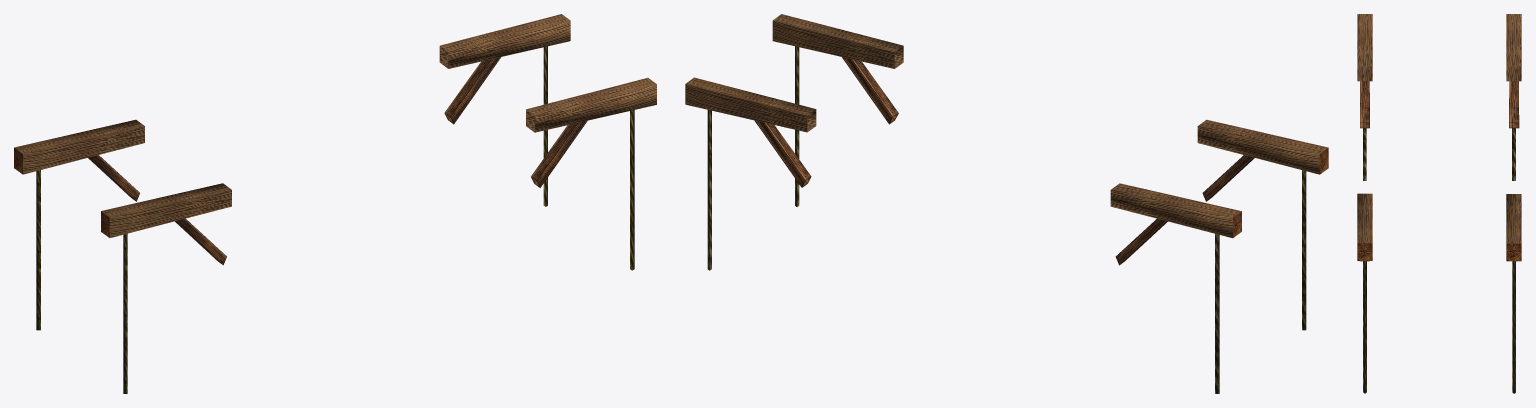
File: LAKETOWN_EXTERIOR_PS_LT_ROPESUP74646__GX.fbx
The picture shows the model from 3 angles, left to right: view 1: azimuth 30°, elevation 25°; view 2: azimuth 150°, elevation 25°; view 3: azimuth 270°, elevation 25°; orthographic projection. The views are drawn at different scales.
Parts seen in each view (by area): view 1: LAKETOWN_EXTERIOR_PS_LT_ROPESUP74646__GX; view 2: LAKETOWN_EXTERIOR_PS_LT_ROPESUP74646__GX; view 3: LAKETOWN_EXTERIOR_PS_LT_ROPESUP74646__GX.
Boxes of the visible parts, x1=… form: LAKETOWN_EXTERIOR_PS_LT_ROPESUP74646__GX: x1=14, y1=14, x2=656, y2=393; LAKETOWN_EXTERIOR_PS_LT_ROPESUP74646__GX: x1=685, y1=14, x2=1328, y2=393; LAKETOWN_EXTERIOR_PS_LT_ROPESUP74646__GX: x1=1357, y1=14, x2=1521, y2=393.
Size of the model in its own units: 87064 by 27944 by 26391.
4 materials, 4 textured.
